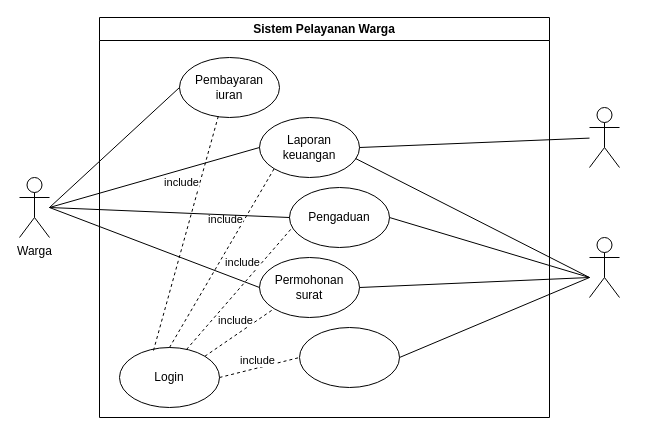
The diagram is 651 pixels wide and 435 high, and some of its shapes have lost their labels. The shapes that lost their labels are listed below. From the top down, each one's centre as x and y in pixels, then its label:
pixel 604 137: Bendahara
pixel 604 267: Ketua RT
pixel 349 357: Data warga
